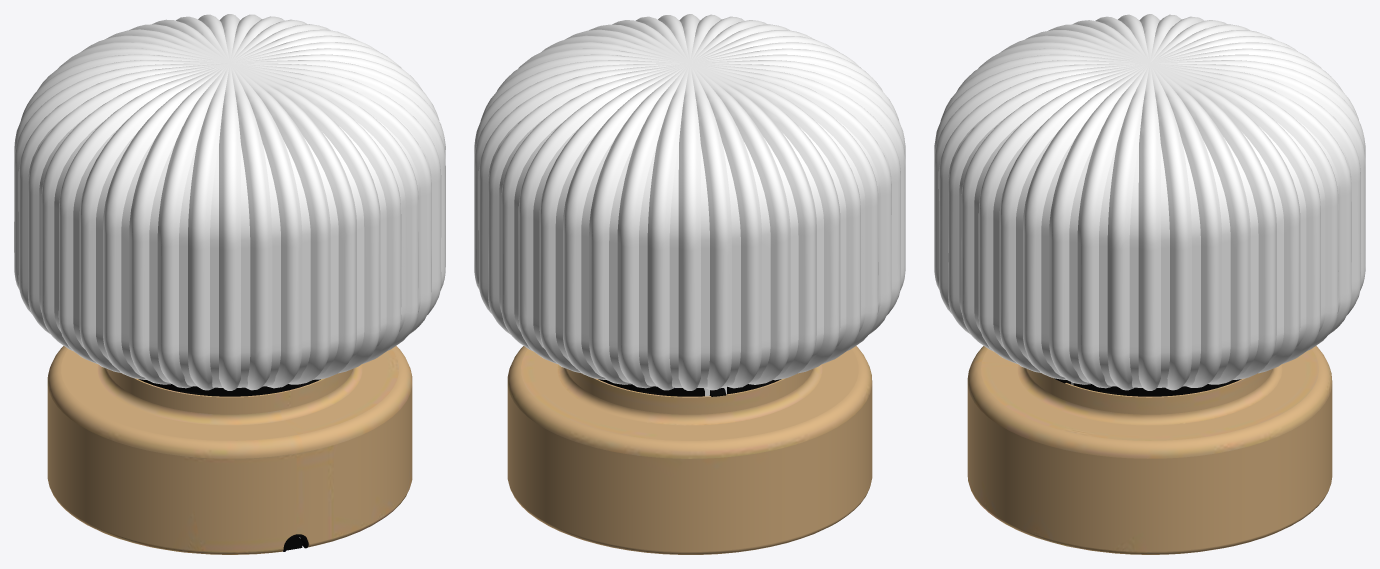
Rendered from solklint_lampa_scienna_staa_instalacja_30472022.glb.
3 views of the same model, side by side, from view 1: azimuth 30°, elevation 25°; view 2: azimuth 150°, elevation 25°; view 3: azimuth 270°, elevation 25° (orthographic).
Visible parts, largest first — view 1: solklint_lampa_scienna_staa_instalacja_30472022; view 2: solklint_lampa_scienna_staa_instalacja_30472022; view 3: solklint_lampa_scienna_staa_instalacja_30472022.
Part boxes in pixels (<box>): solklint_lampa_scienna_staa_instalacja_30472022: <box>14,14,445,554</box>; solklint_lampa_scienna_staa_instalacja_30472022: <box>474,14,905,554</box>; solklint_lampa_scienna_staa_instalacja_30472022: <box>934,14,1365,554</box>.
Size of the model in its own units: 0.1601 by 0.1703 by 0.1597.
2 materials, 2 textured.
